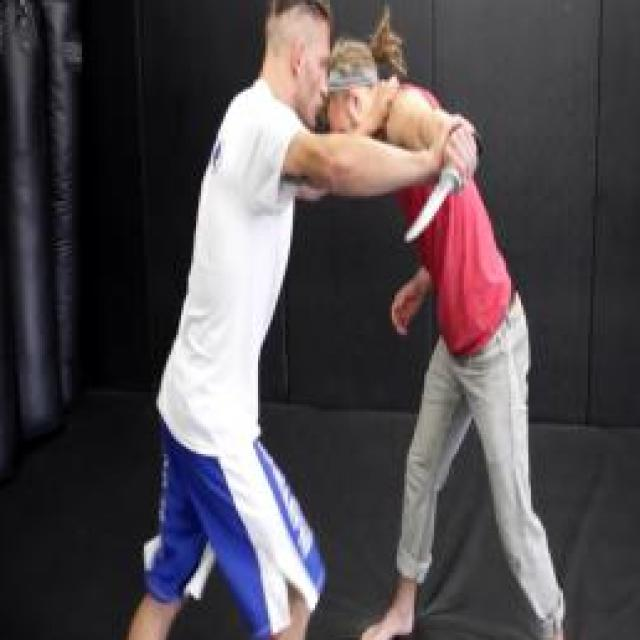knife: (399, 121, 484, 252)
